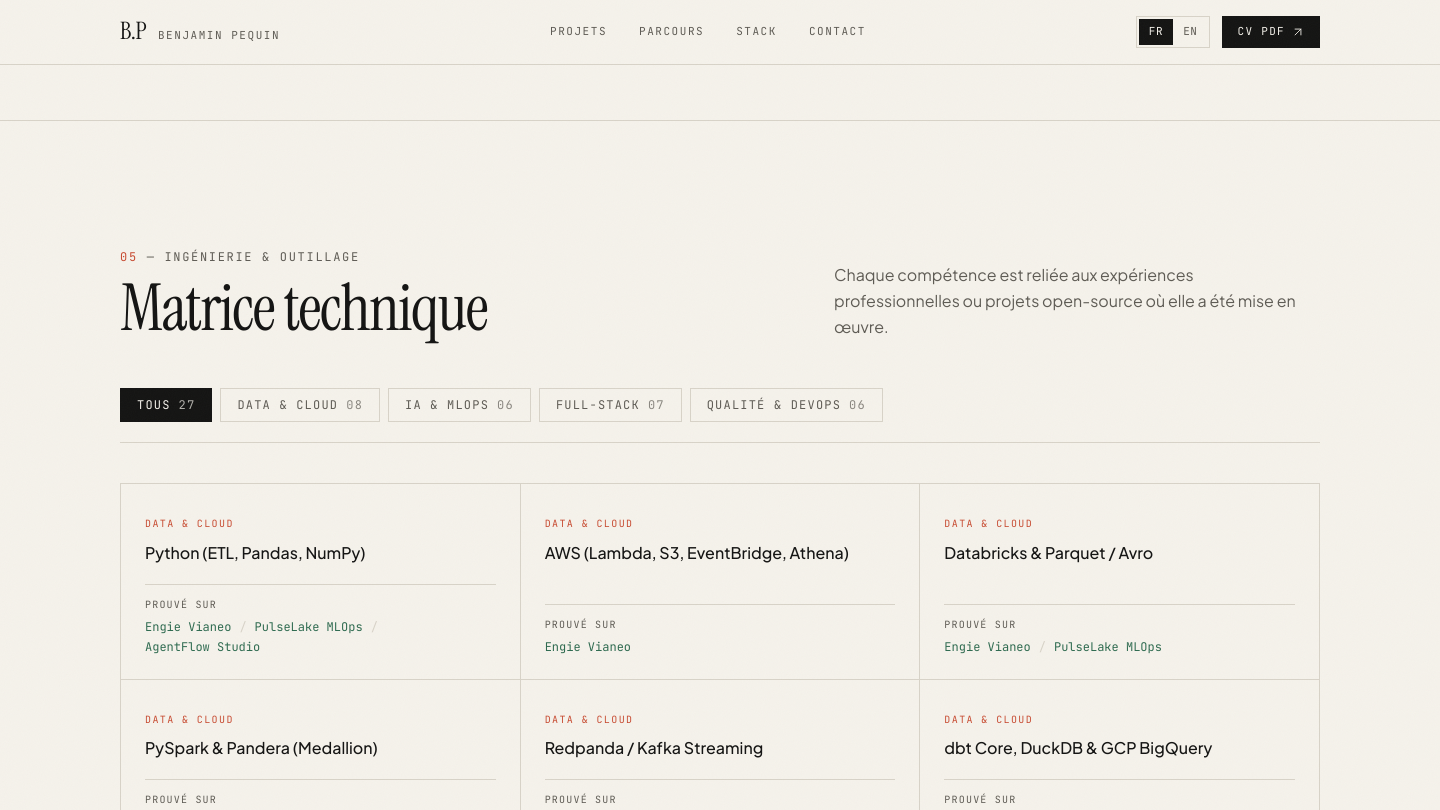
Portfolio App › filters SkillsMatrix by category
This screenshot has width=1440, height=810.
Later steps or results of the test are not shown.
(page scrolled)
Click the tab "Data & Cloud 08".
click(300, 405)  # box [220,388,380,422]
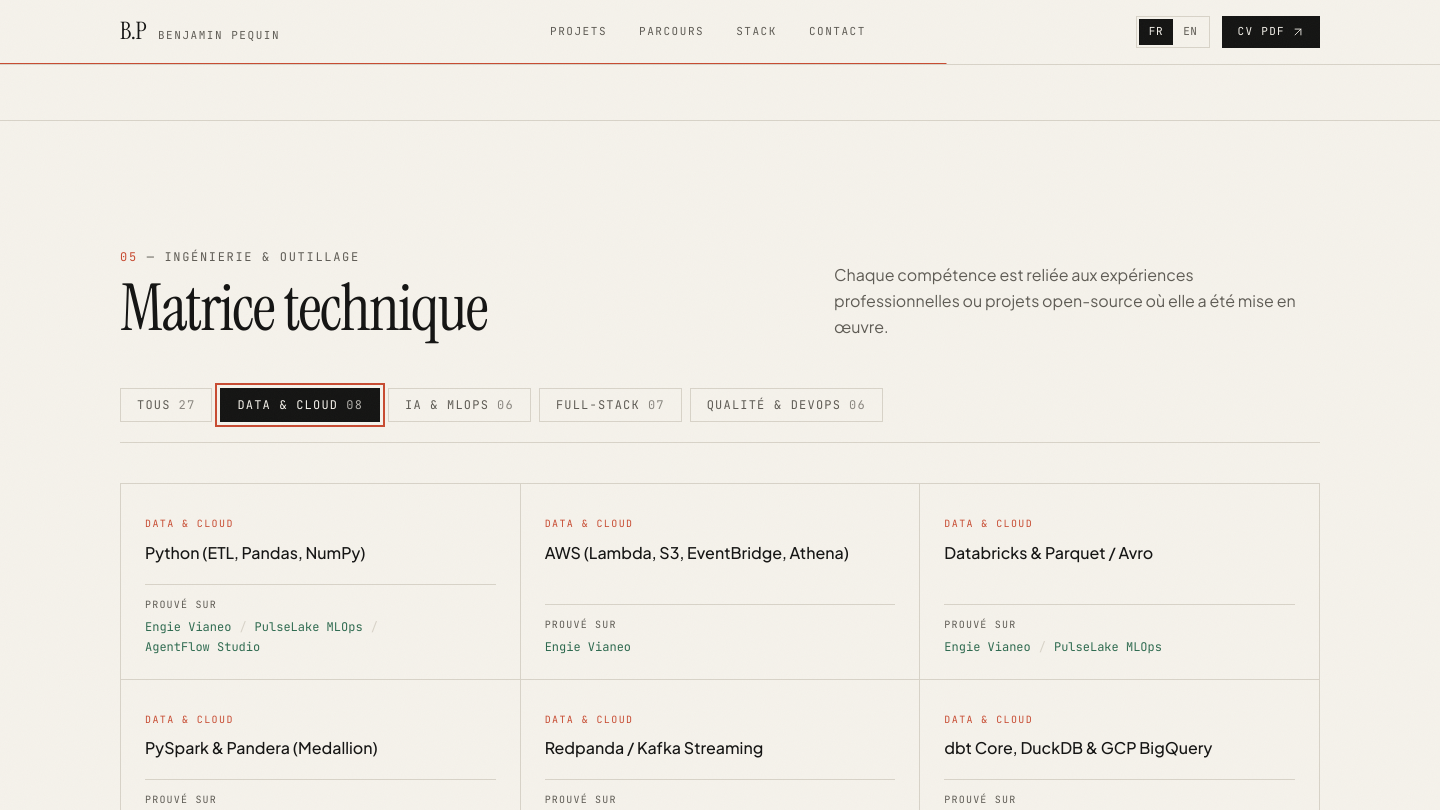
Expected: the tab "Data & Cloud 08" is selected, [220,388,380,422]
Click the tab "IA & MLOps 06".
click(459, 405)  # box [388,388,531,422]
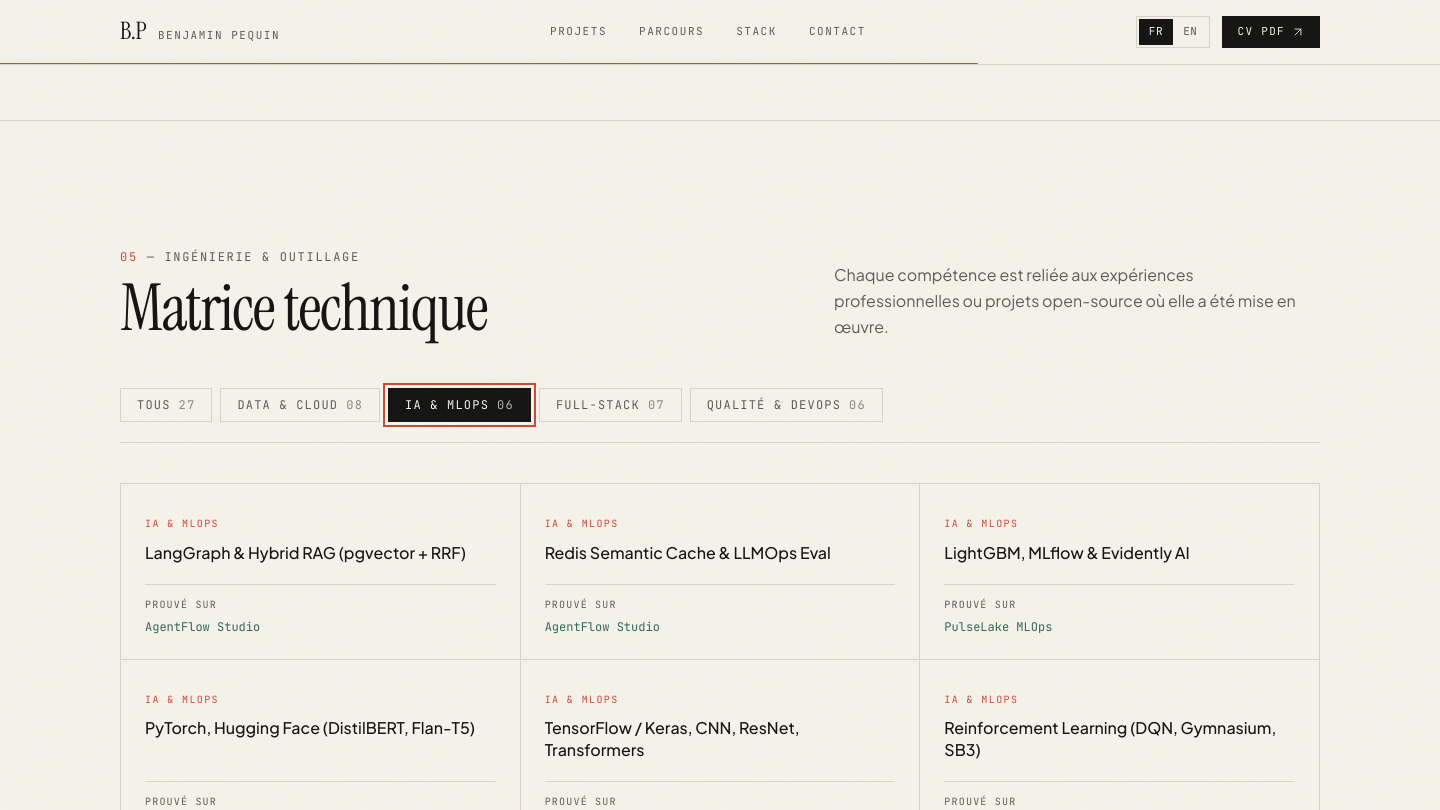
Expected: the tab "IA & MLOps 06" is selected, [388,388,531,422]
Click the tab "Full-Stack 07".
click(610, 405)  # box [539,388,682,422]
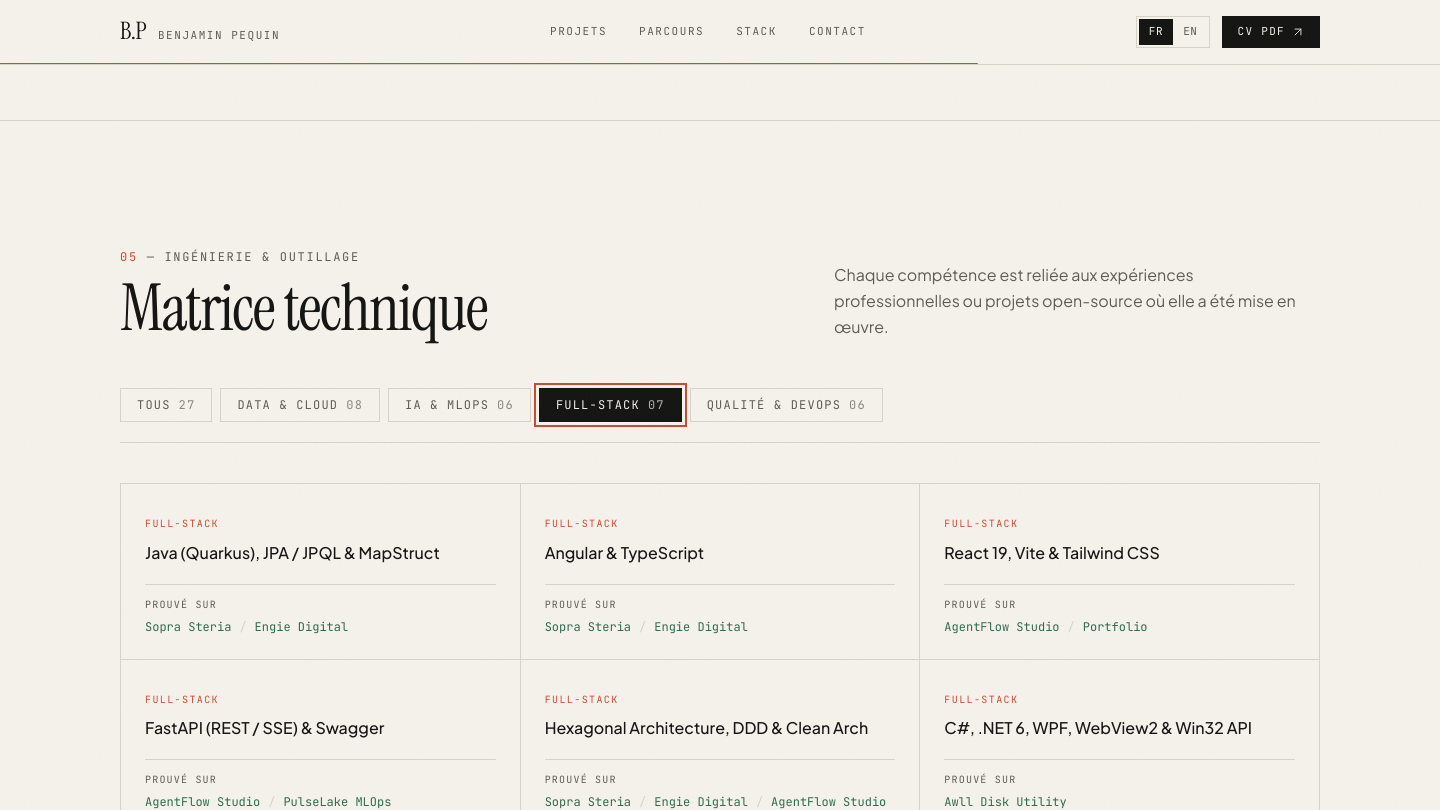
Expected: the tab "Full-Stack 07" is selected, [539,388,682,422]
Click the tab "Qualité & DevOps 06".
click(786, 405)  # box [690,388,883,422]
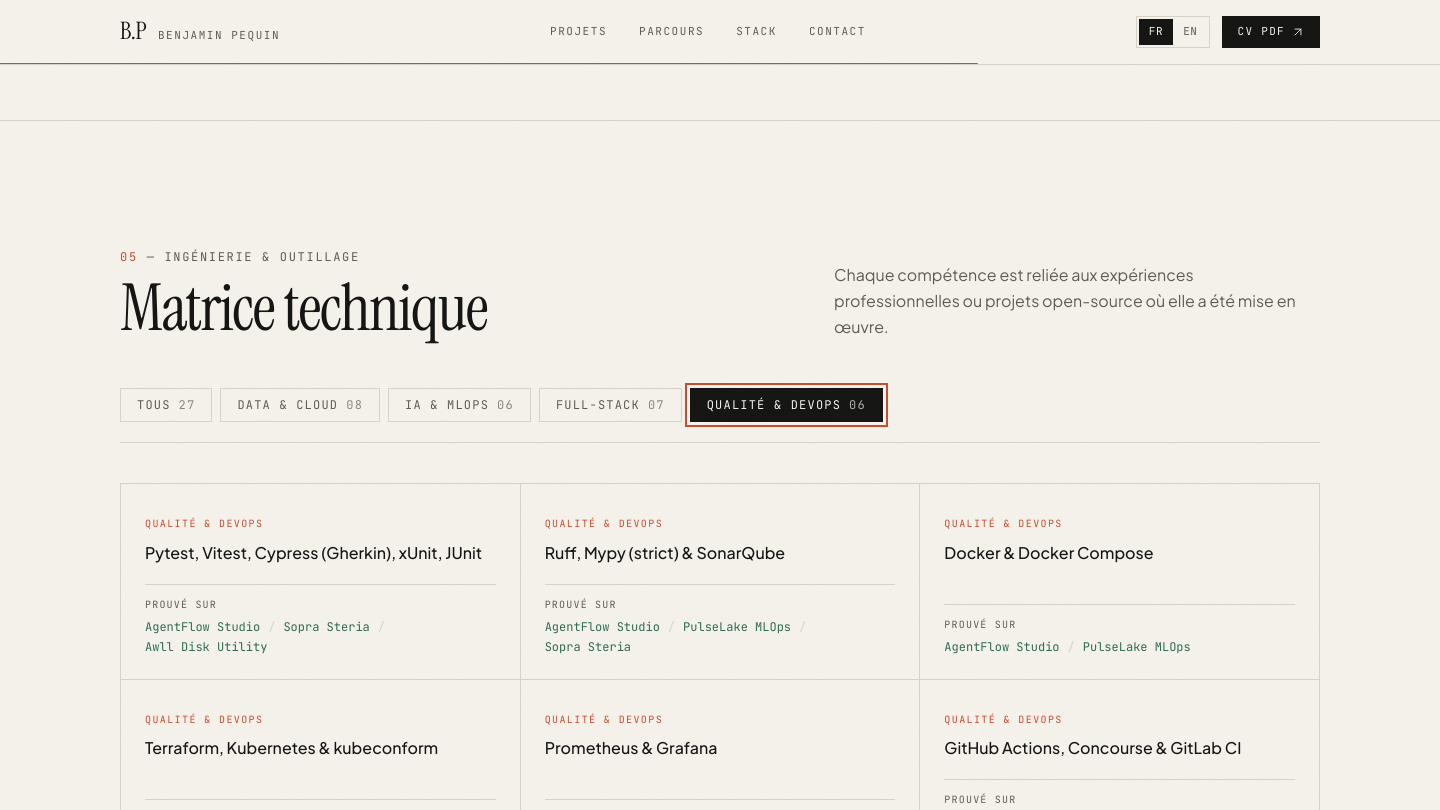
Expected: the tab "Qualité & DevOps 06" is selected, [690,388,883,422]
